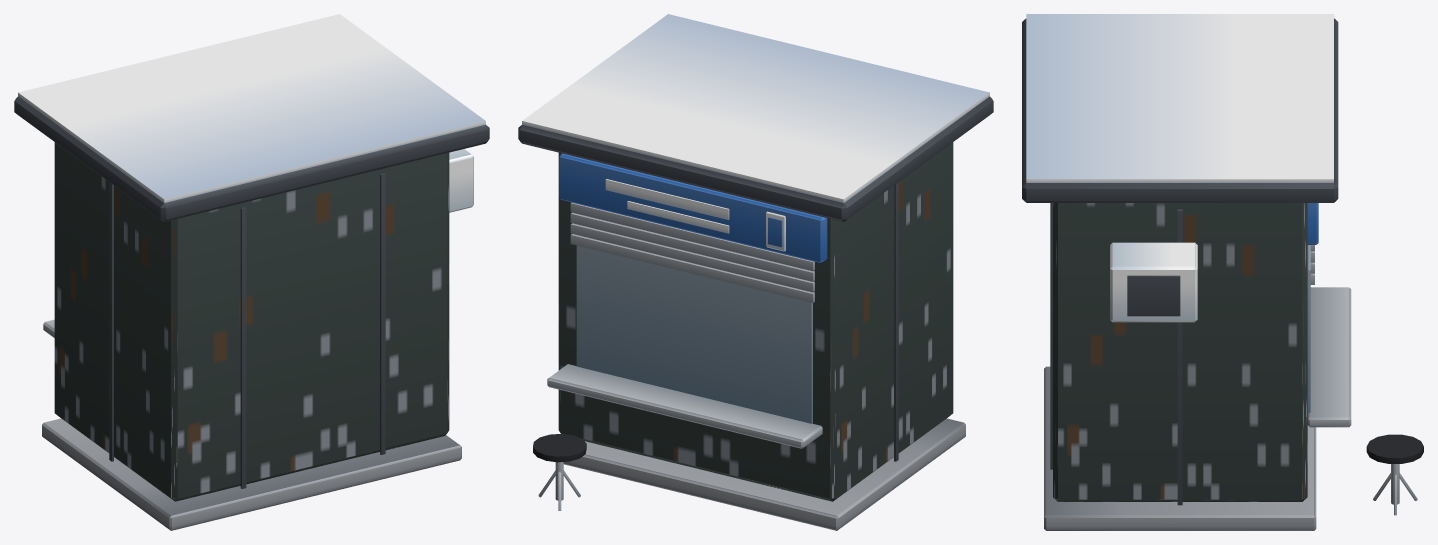
Rendered from ck_phone_repair_kiosk.fbx.
The picture shows the model from 3 angles, left to right: view 1: azimuth 30°, elevation 25°; view 2: azimuth 150°, elevation 25°; view 3: azimuth 270°, elevation 25°; orthographic projection. The views are drawn at different scales.
Visible parts, largest first — view 1: ck_phone_repair_kiosk; view 2: ck_phone_repair_kiosk; view 3: ck_phone_repair_kiosk.
Part boxes in pixels (x1,y1,x2,y2): ck_phone_repair_kiosk: (14, 14, 489, 530); ck_phone_repair_kiosk: (518, 14, 993, 530); ck_phone_repair_kiosk: (1022, 14, 1423, 530).
Bounding box in the file's own units: 980 × 902 × 910.
